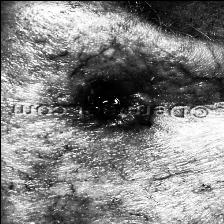Potentially Malignant Skin Tumors: (76, 80, 145, 138)
